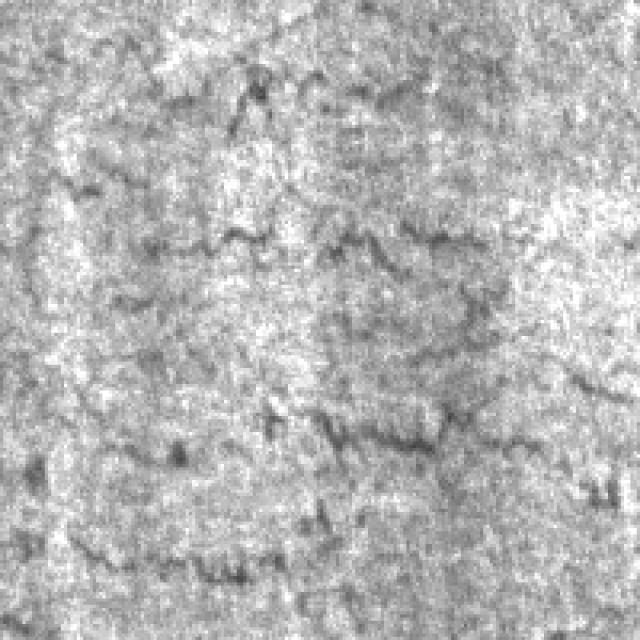crazing: (93, 205, 640, 496), (41, 26, 522, 266), (58, 394, 508, 586)
